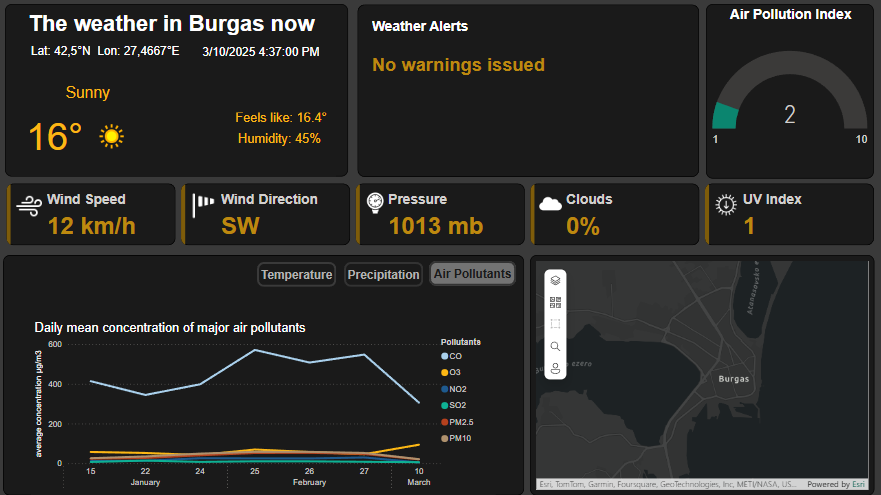

What the dashboard file says about the page in this screenshot:
{"tool":"powerbi","page":{"name":"Page 1","canvas":[1280,720],"ordinal":0},"visuals":[{"type":"textbox","box":[3,5.9,499,251.3],"z":0},{"type":"textbox","box":[32.2,12,434.1,47.6],"z":0,"group":"g4"},{"type":"tableEx","fields":{"Values":["weather-table.latest_cond_icon"]},"box":[111.8,138.3,330,119],"z":0,"group":"g1"},{"type":"actionButton","title":"temperature","box":[368.8,380.6,115.3,36.1],"z":0,"group":"g2"},{"type":"card","fields":{"Values":["Max(weather-table.localtime)"]},"box":[263.7,62.1,220.8,31.5],"z":1000,"group":"g4"},{"type":"card","fields":{"Values":["weather-table.latest_temp_label"]},"box":[26.4,160,97.6,70],"z":1000,"group":"g1"},{"type":"shape","box":[0,370.3,758.2,349.7],"z":1000},{"type":"actionButton","title":"precipitation","box":[495.5,380.6,115.3,36.1],"z":1000,"group":"g2"},{"type":"card","fields":{"Values":["weather-table.LatLonLabel"]},"box":[33.3,55.7,230.3,41.2],"z":2000,"group":"g4"},{"type":"actionButton","title":"pollutants","box":[620.1,380,126.7,36.1],"z":2000,"group":"g3"},{"type":"group","id":"g1","title":"Group 1","box":[26.4,138.3,415.4,119],"z":3000,"group":"g4"},{"type":"group","id":"g2","title":"Buttons_Inactive","box":[368.8,380.6,379.1,36.7],"z":3000},{"type":"card","fields":{"Values":["weather-table.latest_condition_text"]},"box":[11.2,104,222.6,63.1],"z":4000,"group":"g4"},{"type":"lineChart","title":"Daily mean concentration of major air pollutants","fields":{"Category":["weather-table.localtime.Variation.Date Hierarchy.Month","weather-table.localtime.Variation.Date Hierarchy.Day"],"Y":["Avg(weather-table.air_quality.co)","Avg(weather-table.air_quality.o3)","Avg(weather-table.air_quality.no2)","Avg(weather-table.air_quality.so2)","Avg(weather-table.air_quality.pm2_5)","Avg(weather-table.air_quality.pm10)"]},"box":[40.3,464.9,676.2,255.6],"z":4000},{"type":"card","fields":{"Values":["weather-table.feels_like_label"]},"box":[324.7,158.6,156.6,27],"z":5000,"group":"g4"},{"type":"card","fields":{"Values":["weather-table.humidity_label"]},"box":[324.7,185.6,151.9,36.9],"z":6000,"group":"g4"},{"type":"group","id":"g3","title":"Buttons_active","box":[368,380,379,37.7],"z":6000},{"type":"cardVisual","fields":{"Data":["weather-table.latest_wind_kph","weather-table.latest_wind_dir","weather-table.latest_pressure","weather-table.latest_clouds","weather-table.latest_uv"]},"box":[0,261.6,1274.4,100.2],"z":7000},{"type":"group","id":"g4","title":"Group 2","box":[11.2,12,473.3,245.3],"z":8000},{"type":"cardVisual","fields":{"Data":["weather-table.latest_alert_headline"]},"box":[510,1,507.8,261.4],"z":9000},{"type":"gauge","title":"Air Pollution Index","fields":{"Y":["weather-table.latest_airquality_gbindex"]},"box":[1022,5.9,244,254.2],"z":10000},{"type":"esriVisual","fields":{"Location":["weather-table.name"],"Latitude":["weather-table.lat"]},"box":[767,370.3,501,349.7],"z":11000}]}

Visuals, with their boxes in screenshot pixels (x1, y1, x2, y2), scaled from the page's 1280x720 canvas onto the 881x495 screenshot:
textbox: {"x1": 2, "y1": 4, "x2": 346, "y2": 177}
textbox: {"x1": 22, "y1": 8, "x2": 321, "y2": 41}
tableEx - weather-table.latest_cond_icon: {"x1": 77, "y1": 95, "x2": 304, "y2": 177}
"temperature" actionButton: {"x1": 254, "y1": 262, "x2": 333, "y2": 286}
card - Max(weather-table.localtime): {"x1": 181, "y1": 43, "x2": 333, "y2": 64}
card - weather-table.latest_temp_label: {"x1": 18, "y1": 110, "x2": 85, "y2": 158}
shape: {"x1": 0, "y1": 255, "x2": 522, "y2": 494}
"precipitation" actionButton: {"x1": 341, "y1": 262, "x2": 420, "y2": 286}
card - weather-table.LatLonLabel: {"x1": 23, "y1": 38, "x2": 181, "y2": 67}
"pollutants" actionButton: {"x1": 427, "y1": 261, "x2": 514, "y2": 286}
"Group 1" group: {"x1": 18, "y1": 95, "x2": 304, "y2": 177}
"Buttons_Inactive" group: {"x1": 254, "y1": 262, "x2": 515, "y2": 287}
card - weather-table.latest_condition_text: {"x1": 8, "y1": 72, "x2": 161, "y2": 115}
"Daily mean concentration of major air pollutants" lineChart: {"x1": 28, "y1": 320, "x2": 493, "y2": 494}
card - weather-table.feels_like_label: {"x1": 223, "y1": 109, "x2": 331, "y2": 128}
card - weather-table.humidity_label: {"x1": 223, "y1": 128, "x2": 328, "y2": 153}
"Buttons_active" group: {"x1": 253, "y1": 261, "x2": 514, "y2": 287}
cardVisual - weather-table.latest_wind_kph x weather-table.latest_wind_dir: {"x1": 0, "y1": 180, "x2": 877, "y2": 249}
"Group 2" group: {"x1": 8, "y1": 8, "x2": 333, "y2": 177}
cardVisual - weather-table.latest_alert_headline: {"x1": 351, "y1": 1, "x2": 701, "y2": 180}
"Air Pollution Index" gauge: {"x1": 703, "y1": 4, "x2": 871, "y2": 179}
esriVisual - weather-table.name x weather-table.lat: {"x1": 528, "y1": 255, "x2": 873, "y2": 494}
